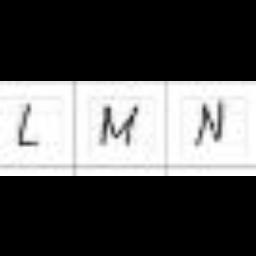m: (95, 102, 145, 150)
